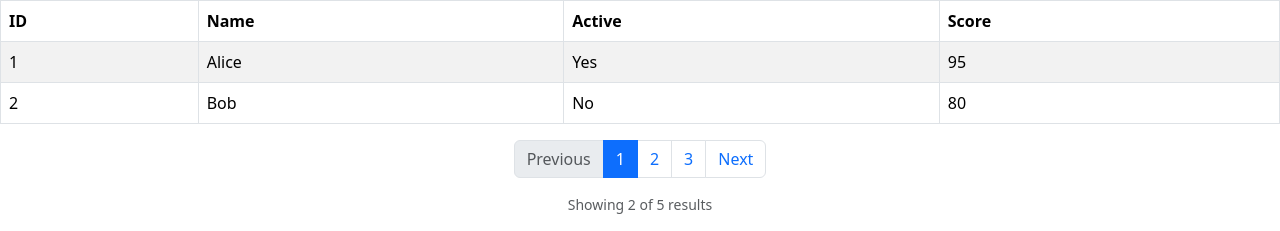
Scenario: SimpleTable › Pagination › should navigate to next page
What coordinates should you click on to do the following:
click the button "Next"
I would click on:
 (736, 159)
Its box is [705,140,766,178].
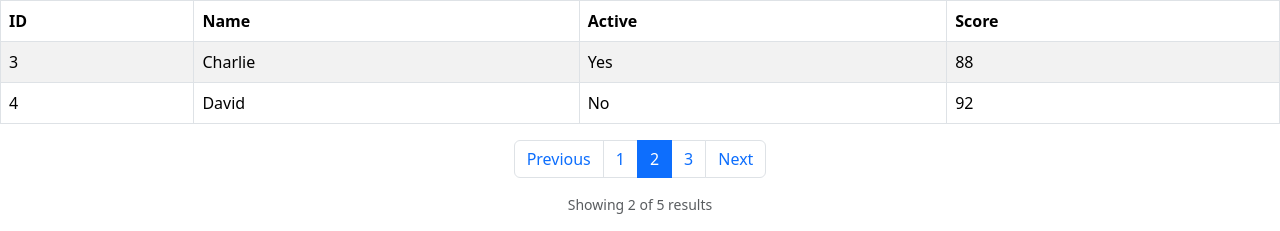
Result: the text "Charlie" is shown at [194,42,579,82]
Result: the text "Alice" is gone
